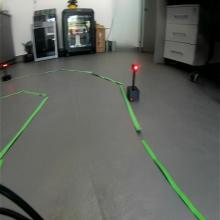red: (131, 63, 139, 72)
